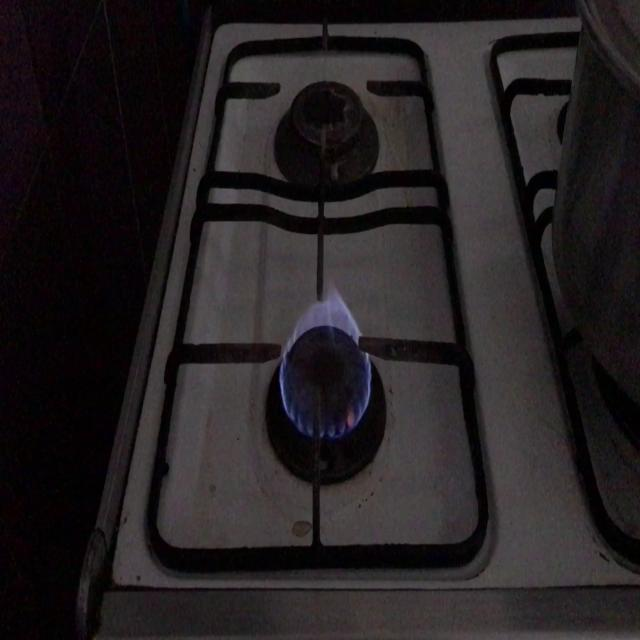fire: (281, 286, 371, 448)
